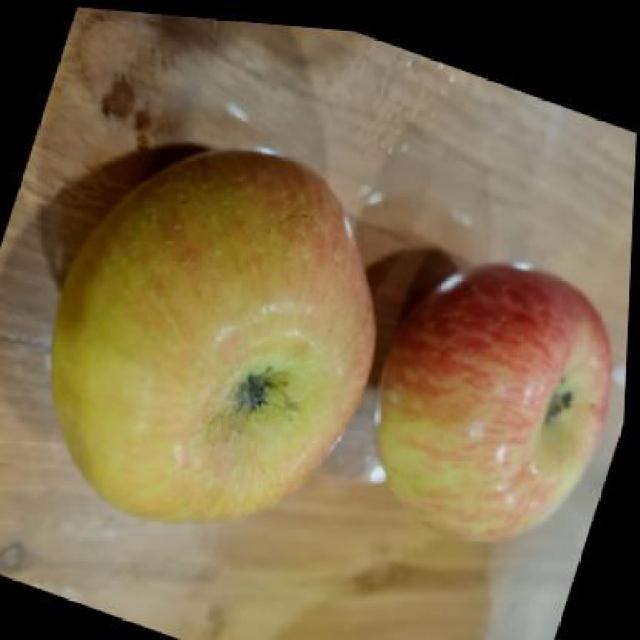Fresh Apple: (49, 161, 392, 533), (395, 282, 612, 542)
